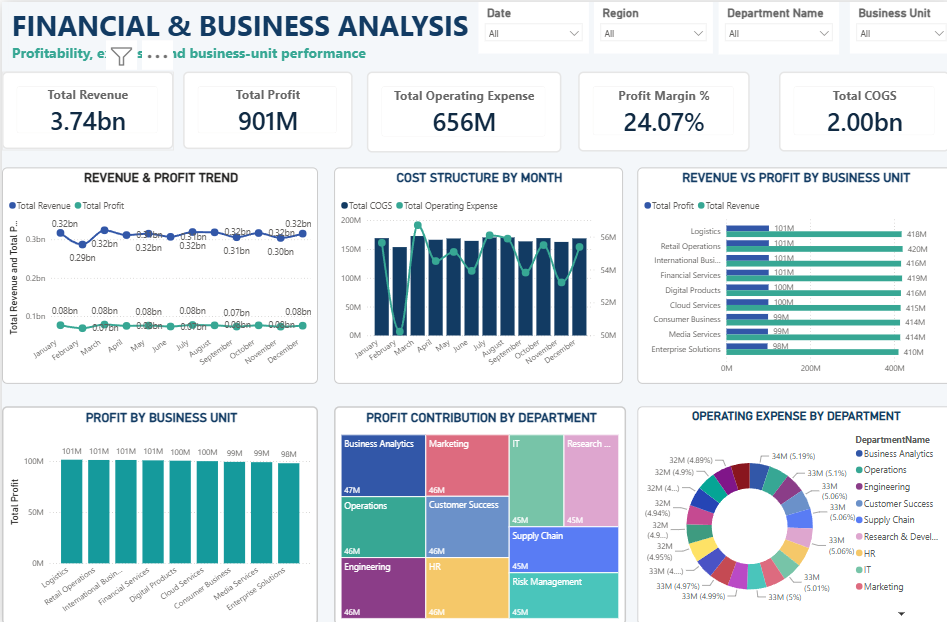

Layout of this report page (visuals, bound fields, positions):
{"tool":"powerbi","page":{"name":"FINANCIAL & BUSINESS ANALYSIS","canvas":[1450,950],"ordinal":2},"visuals":[{"type":"textbox","box":[10,0,715,105],"z":0},{"type":"slicer","fields":{"Values":["CALENDAR.Date"]},"box":[725,0,168.3,78.3],"z":1000},{"type":"slicer","fields":{"Values":["REGIONS.Region"]},"box":[901.7,0,181.7,78.3],"z":2000},{"type":"slicer","fields":{"Values":["DEPARTMENTS.DepartmentName"]},"box":[1091.7,0,183.3,80],"z":3000},{"type":"slicer","fields":{"Values":["BUSINESS UNITS.BusinessUnit"]},"box":[1291.7,0,158.3,78.3],"z":4000},{"type":"cardVisual","fields":{"Data":["MEASURE TABLE.Total Revenue"]},"box":[0,106.7,261.7,118.3],"z":5000},{"type":"cardVisual","fields":{"Data":["MEASURE TABLE.Total Profit"]},"box":[275,106.7,258.3,118.3],"z":6000},{"type":"cardVisual","fields":{"Data":["MEASURE TABLE.Total Operating Expense"]},"box":[555,105,296.7,123.3],"z":7000},{"type":"cardVisual","fields":{"Data":["MEASURE TABLE.Profit Margin %"]},"box":[878.3,106.7,261.7,121.7],"z":8000},{"type":"cardVisual","fields":{"Data":["MEASURE TABLE.Total COGS"]},"box":[1183.3,106.7,261.7,121.7],"z":9000},{"type":"lineChart","title":"REVENUE & PROFIT TREND","fields":{"Y":["MEASURE TABLE.Total Revenue","MEASURE TABLE.Total Profit"],"Category":["CALENDAR.MonthName"]},"box":[0,251.7,481.7,330],"z":10000},{"type":"lineClusteredColumnComboChart","title":"COST STRUCTURE BY MONTH","fields":{"Category":["CALENDAR.MonthName"],"Y":["MEASURE TABLE.Total COGS"],"Y2":["MEASURE TABLE.Total Operating Expense"]},"box":[505,251.7,440,330],"z":11000},{"type":"columnChart","title":"PROFIT BY BUSINESS UNIT","fields":{"Category":["BUSINESS UNITS.BusinessUnit"],"Y":["MEASURE TABLE.Total Profit"]},"box":[0,615,481.7,335],"z":12000},{"type":"treemap","title":"PROFIT CONTRIBUTION BY DEPARTMENT","fields":{"Group":["DEPARTMENTS.DepartmentName"],"Values":["MEASURE TABLE.Total Profit"]},"box":[505,615,445,335],"z":13000},{"type":"clusteredBarChart","title":"REVENUE VS PROFIT BY BUSINESS UNIT","fields":{"Y":["MEASURE TABLE.Total Profit","MEASURE TABLE.Total Revenue"],"Category":["BUSINESS UNITS.BusinessUnit"]},"box":[968.3,251.7,481.7,330],"z":14000},{"type":"donutChart","title":"OPERATING EXPENSE BY DEPARTMENT","fields":{"Category":["DEPARTMENTS.DepartmentName"],"Y":["MEASURE TABLE.Total Operating Expense"]},"box":[968.3,615,481.7,335],"z":15000}]}

Visuals, with their boxes in screenshot pixels (x1, y1, x2, y2), scaled from the page's 1450x950 canvas onto the 947x622 screenshot:
textbox: BBox(7, 0, 474, 69)
slicer - CALENDAR.Date: BBox(474, 0, 583, 51)
slicer - REGIONS.Region: BBox(589, 0, 708, 51)
slicer - DEPARTMENTS.DepartmentName: BBox(713, 0, 833, 52)
slicer - BUSINESS UNITS.BusinessUnit: BBox(844, 0, 946, 51)
cardVisual - MEASURE TABLE.Total Revenue: BBox(0, 70, 171, 147)
cardVisual - MEASURE TABLE.Total Profit: BBox(180, 70, 348, 147)
cardVisual - MEASURE TABLE.Total Operating Expense: BBox(362, 69, 556, 149)
cardVisual - MEASURE TABLE.Profit Margin %: BBox(574, 70, 745, 150)
cardVisual - MEASURE TABLE.Total COGS: BBox(773, 70, 944, 150)
"REVENUE & PROFIT TREND" lineChart: BBox(0, 165, 315, 381)
"COST STRUCTURE BY MONTH" lineClusteredColumnComboChart: BBox(330, 165, 617, 381)
"PROFIT BY BUSINESS UNIT" columnChart: BBox(0, 403, 315, 621)
"PROFIT CONTRIBUTION BY DEPARTMENT" treemap: BBox(330, 403, 620, 621)
"REVENUE VS PROFIT BY BUSINESS UNIT" clusteredBarChart: BBox(632, 165, 946, 381)
"OPERATING EXPENSE BY DEPARTMENT" donutChart: BBox(632, 403, 946, 621)
